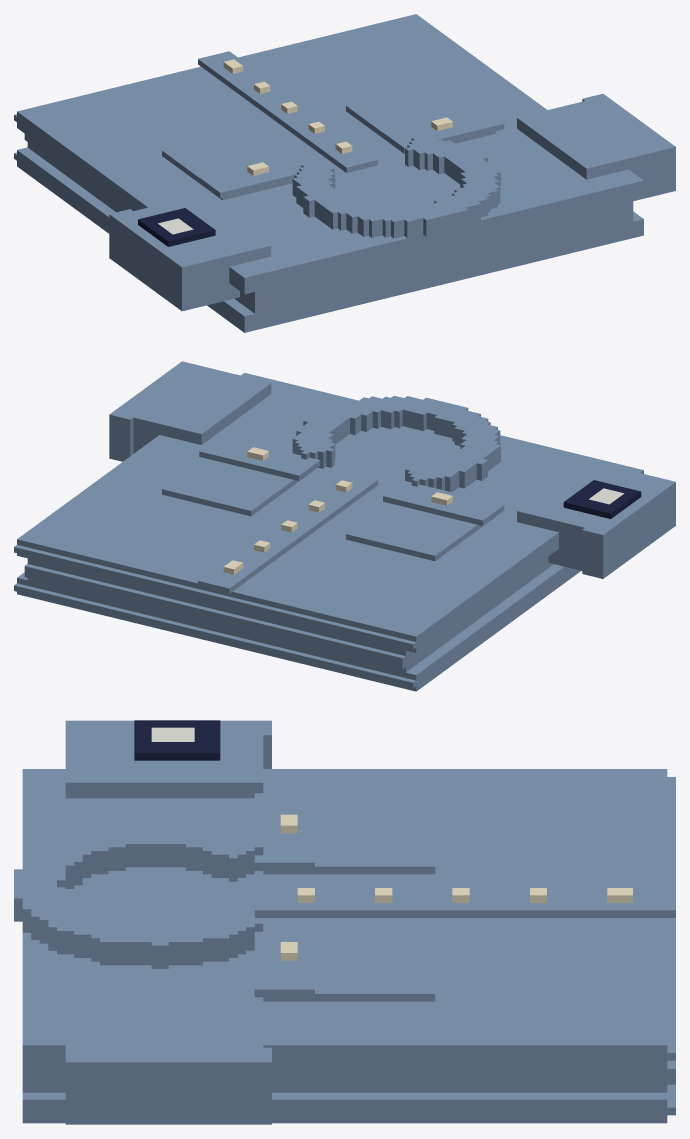
File: postman_shirt.glb
3 renders of one model, top to bottom at view 1: azimuth 30°, elevation 25°; view 2: azimuth 150°, elevation 25°; view 3: azimuth 270°, elevation 25°, orthographic. The views are drawn at different scales.
Parts seen in each view (by area): view 1: postman_shirt:compound; view 2: postman_shirt:compound; view 3: postman_shirt:compound.
Part boxes in pixels (x1=…): postman_shirt:compound: x1=14, y1=14, x2=675, y2=332; postman_shirt:compound: x1=14, y1=361, x2=675, y2=691; postman_shirt:compound: x1=14, y1=720, x2=675, y2=1124.
Size of the model in its own units: 0.376 by 0.052 by 0.308.
